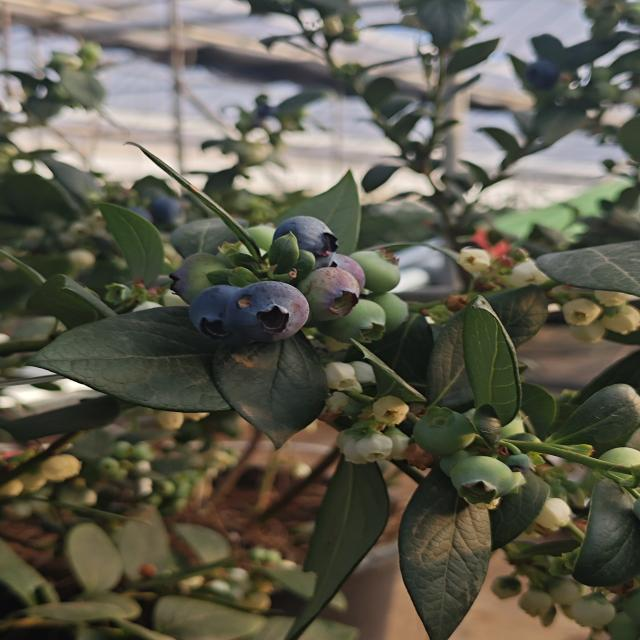ripe: (230, 276, 317, 347), (264, 208, 349, 274), (184, 281, 260, 342), (122, 188, 185, 228)
